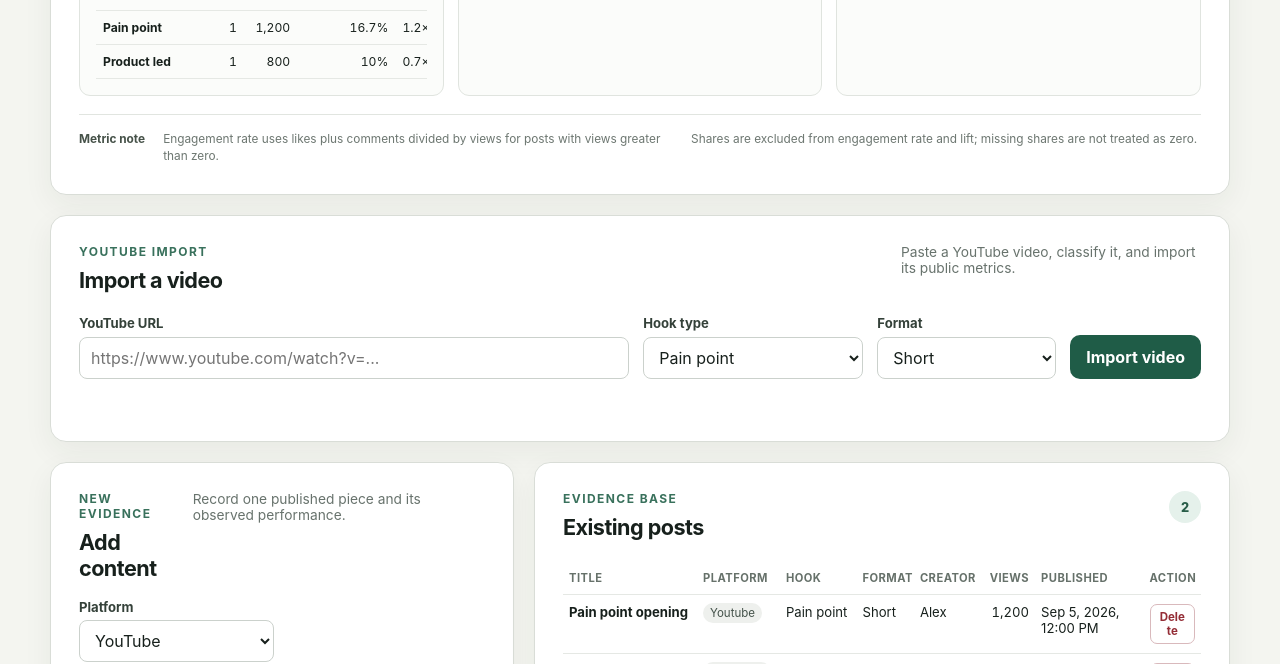
App › does not refresh the dashboard after a failed import
(page scrolled)
Expected: the column heading "Pain point opening" is shown, [563,595,697,654]
In the field labelled "YouTube URL": (354, 358) [79,337,629,379], type "https://www.youtube.com/watch?v=dQw4w9WgXcQ"
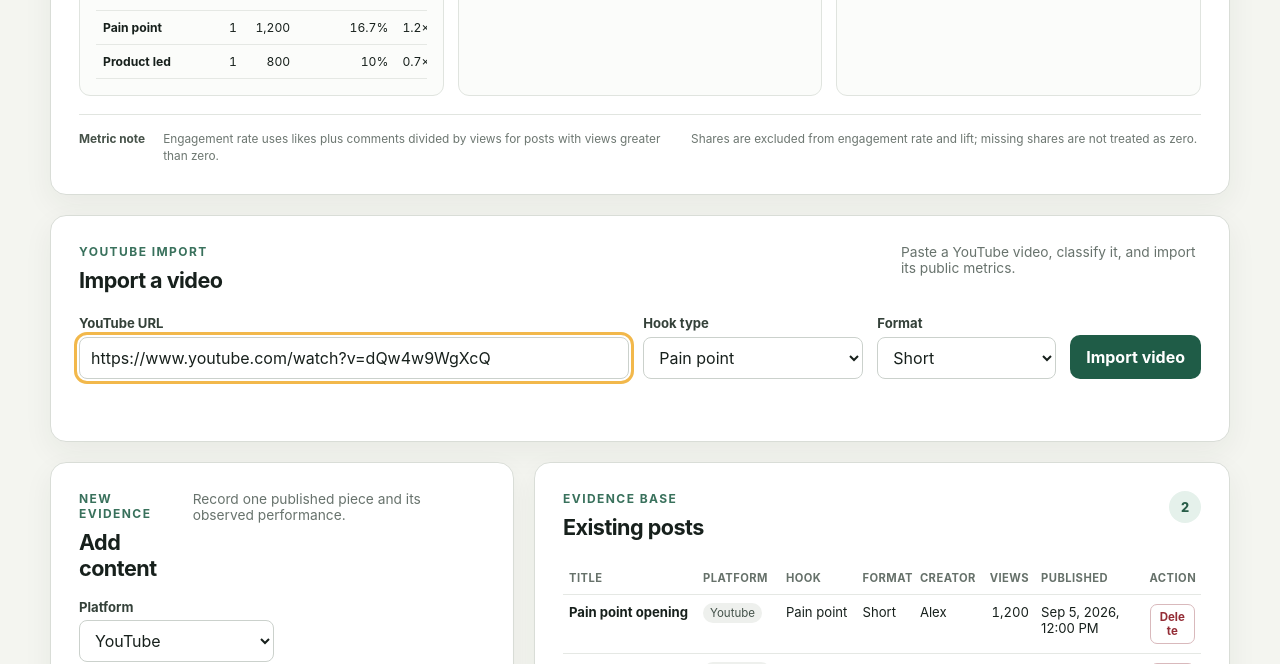
Select "Question" in the dropdown labelled "Hook type": (753, 358) [643,337,863,379]
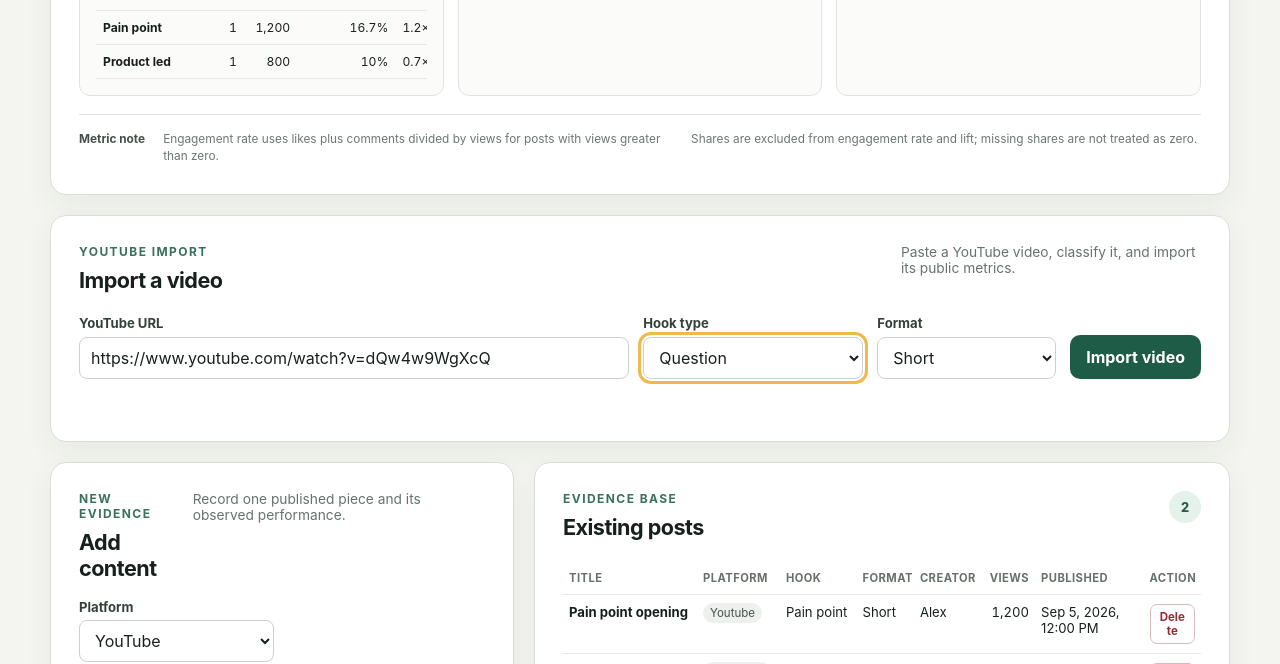
Select "Long" in the dropdown labelled "Format": (967, 358) [877,337,1056,379]
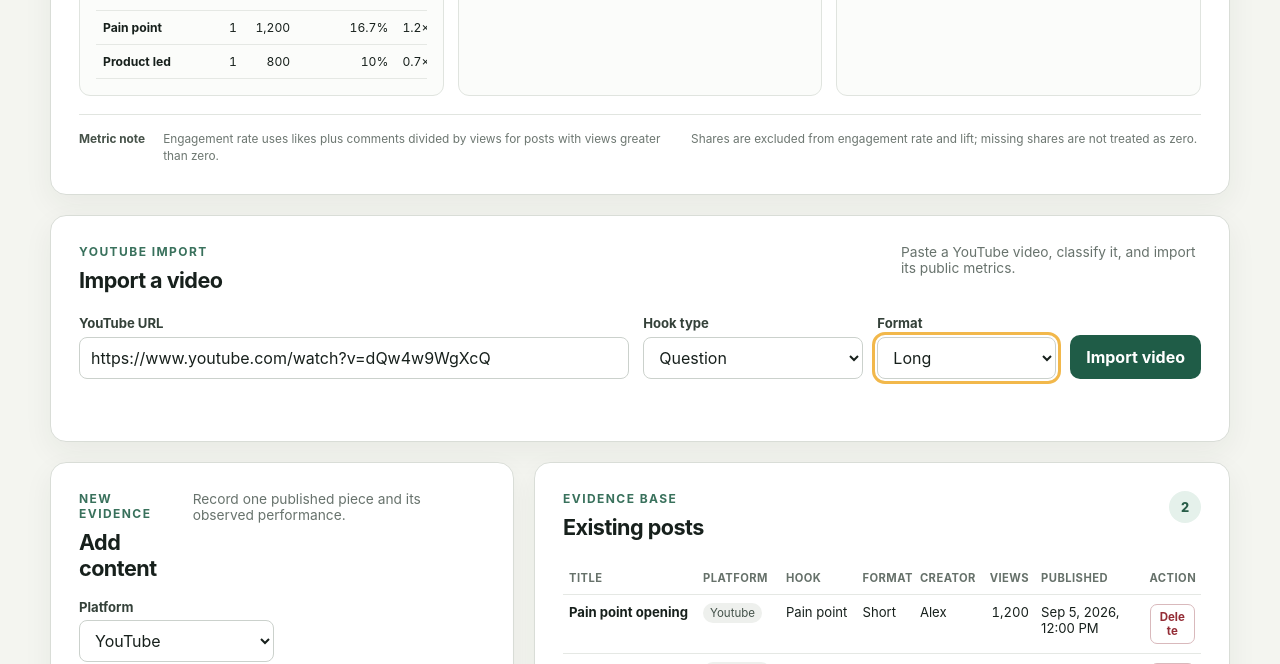
Click the button "Import video": (1136, 357) [1070,335,1201,379]
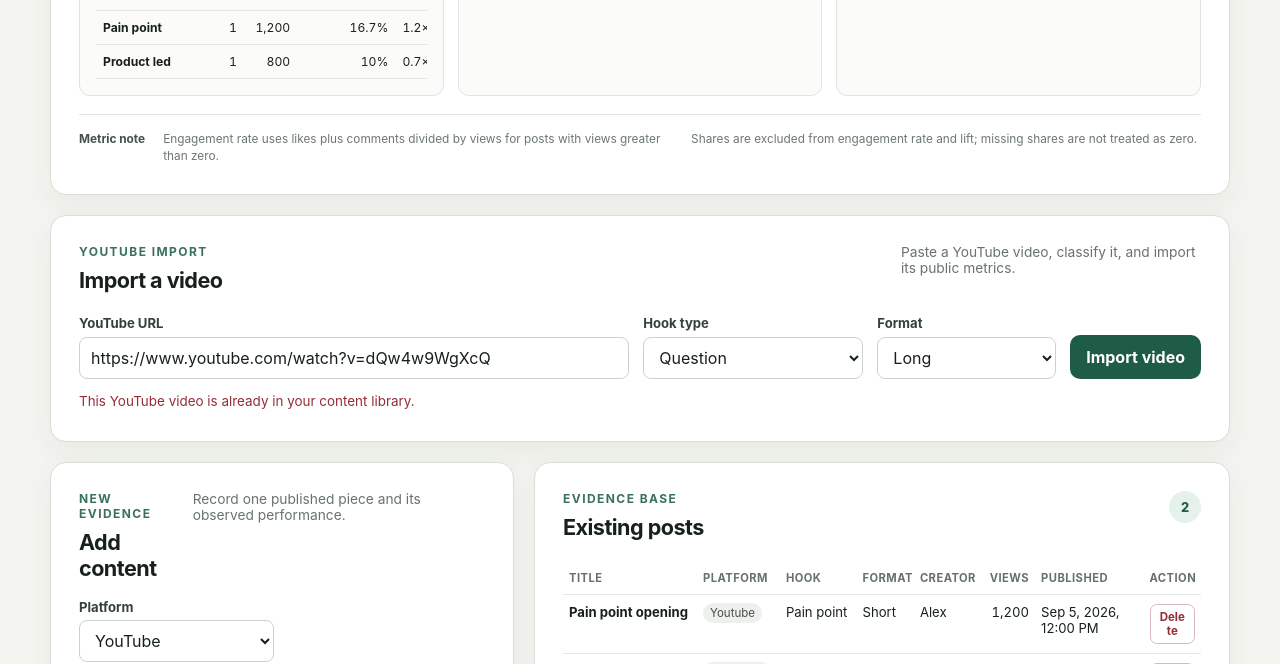
Expected: the message shows "already in your content library", [79,393,415,409]
